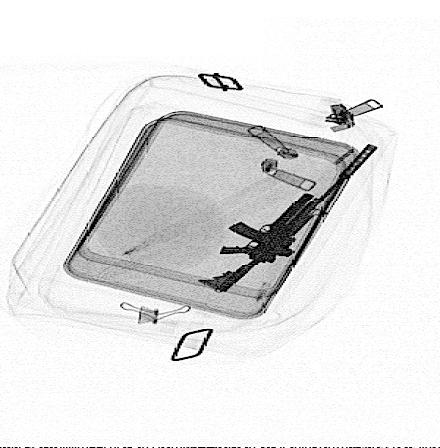Gun: (195, 142, 380, 294)
